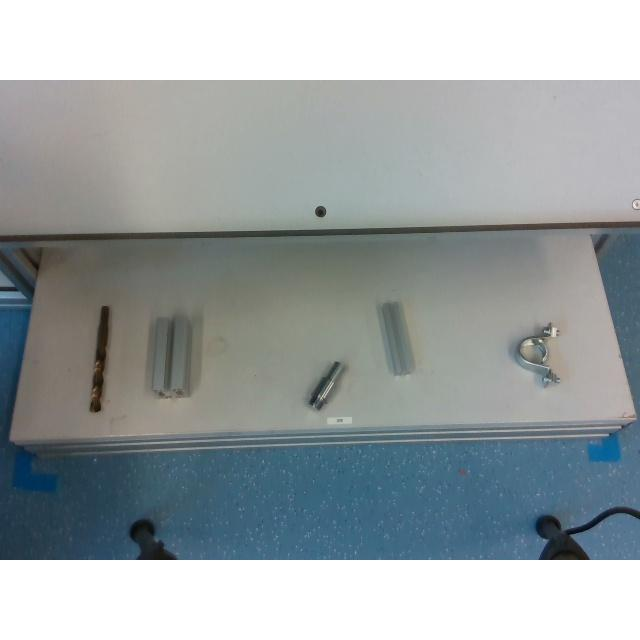Axis2: (309, 360, 347, 410)
Drill: (88, 304, 110, 412)
F20_20_G: (380, 302, 416, 374)
Housing: (514, 324, 562, 384)
S40_40_G: (151, 316, 191, 396)
